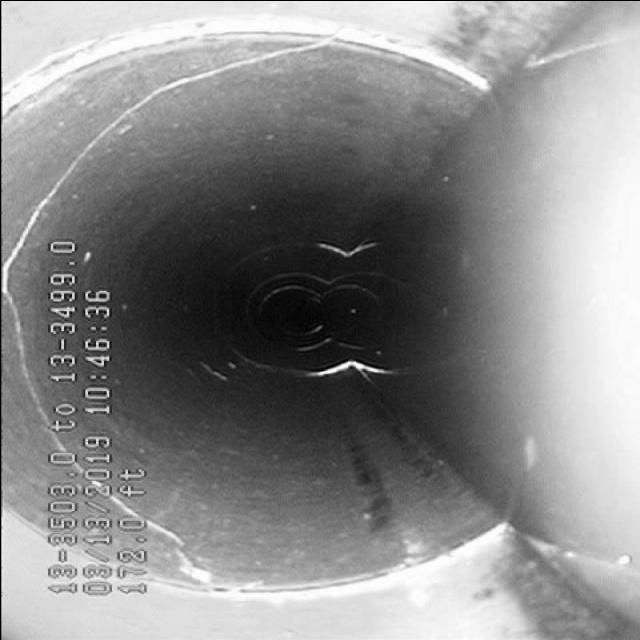Crack: (46, 49, 328, 147), (2, 162, 60, 282)
